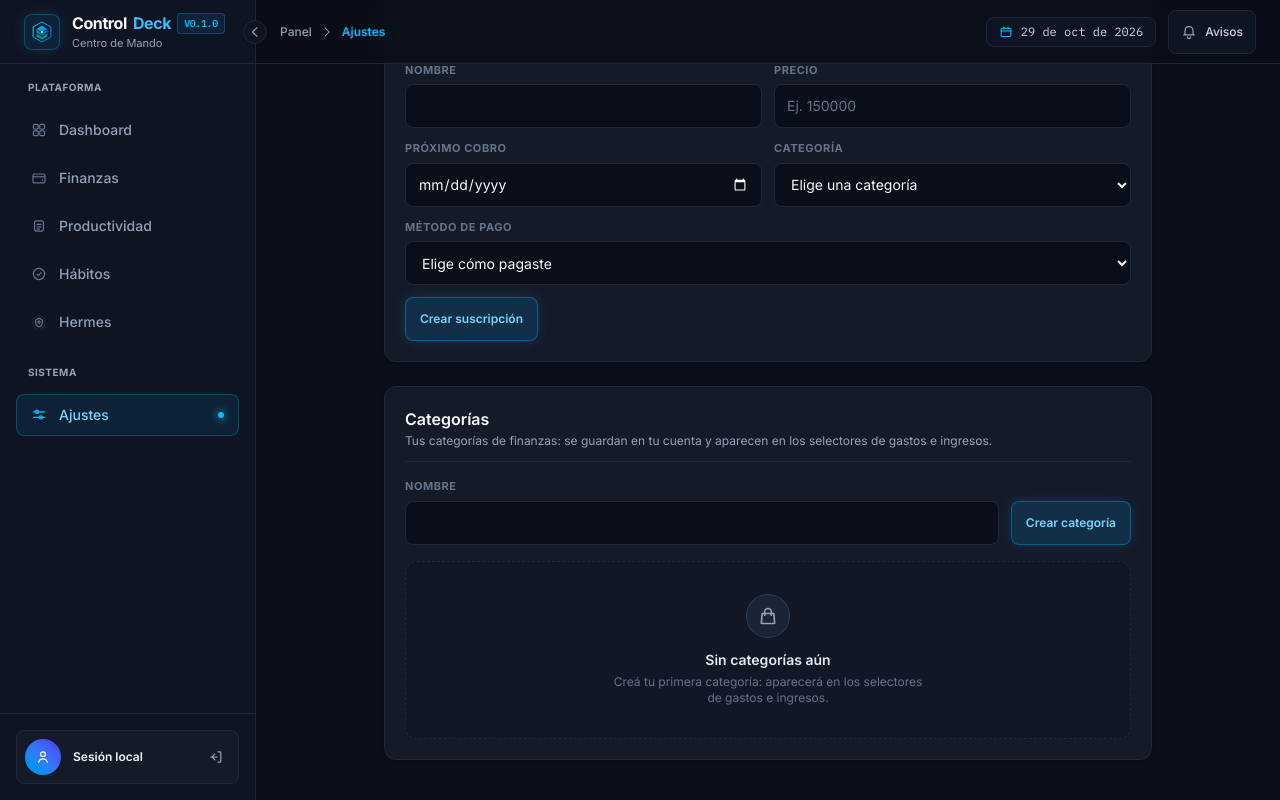
Test: ajustes page › creates name-only categories with no kind control and deletes them
The image size is (1280, 800).
(page scrolled)
Expected: the text "Sin categorías aún" is shown, [705,650,831,670]
Type "Comida" into the 2nd field labelled "Nombre" at (702,522), box [405,500,999,544]
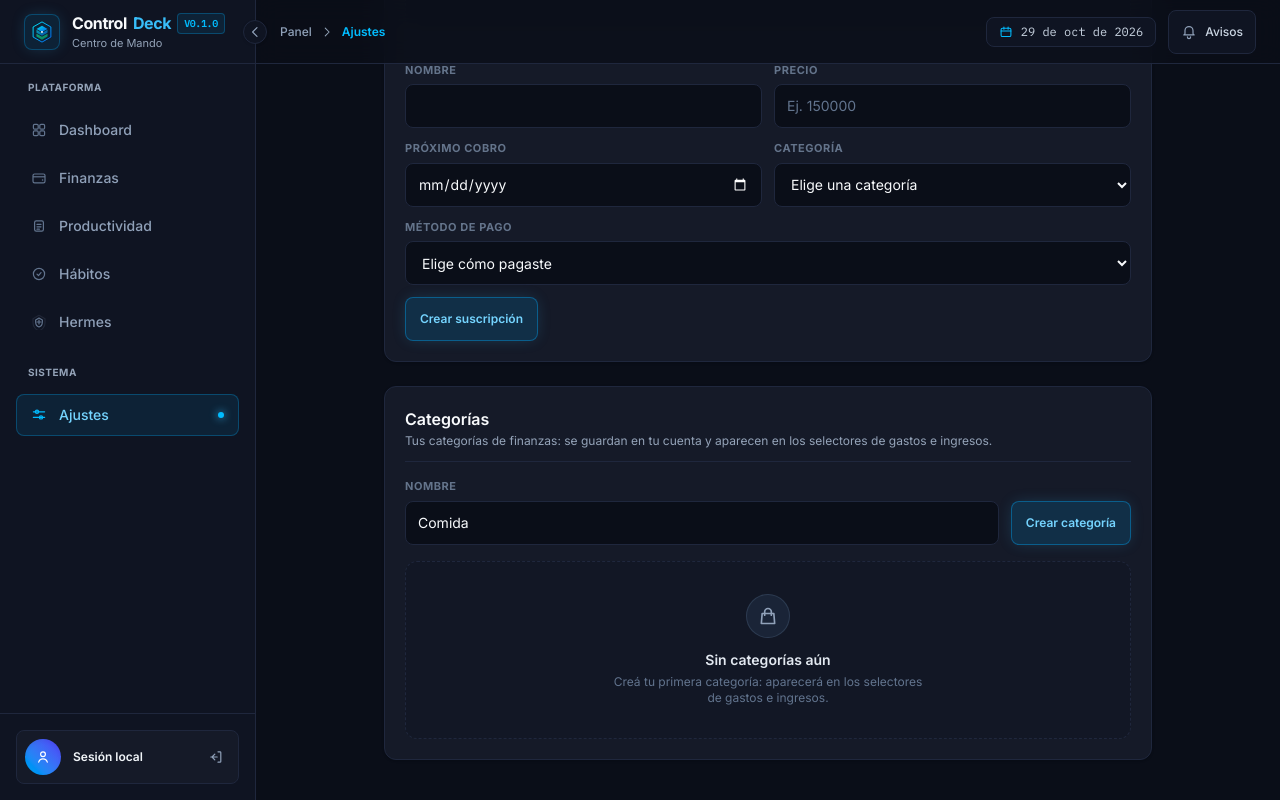
Click the button "Crear categoría" at (1071,522), box [1011,500,1131,544]
(page scrolled)
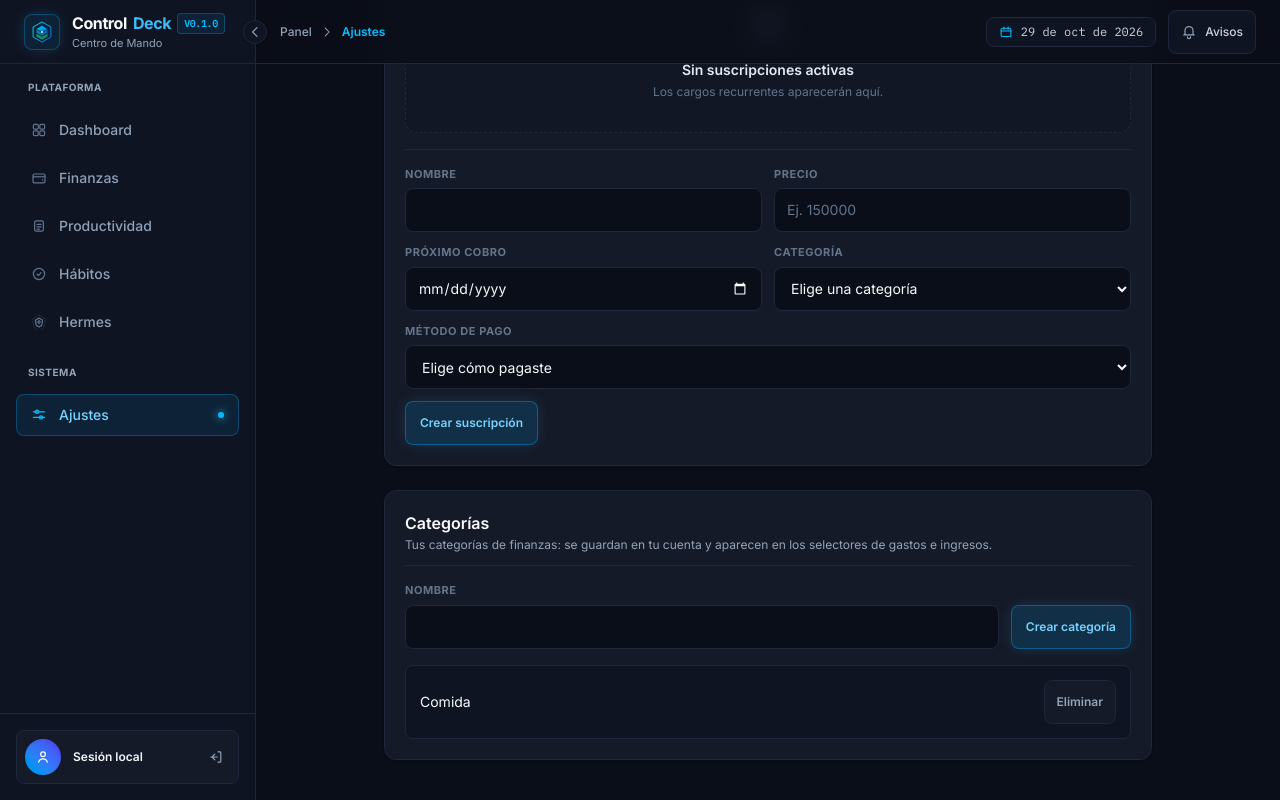
Expected: the text "Gasto" is not shown
Now the text "Comida" is shown, box [420,692,471,712]
Click the button with aria-label "Eliminar: Comida" at (1080,702), box [1044,680,1116,724]
(page scrolled)
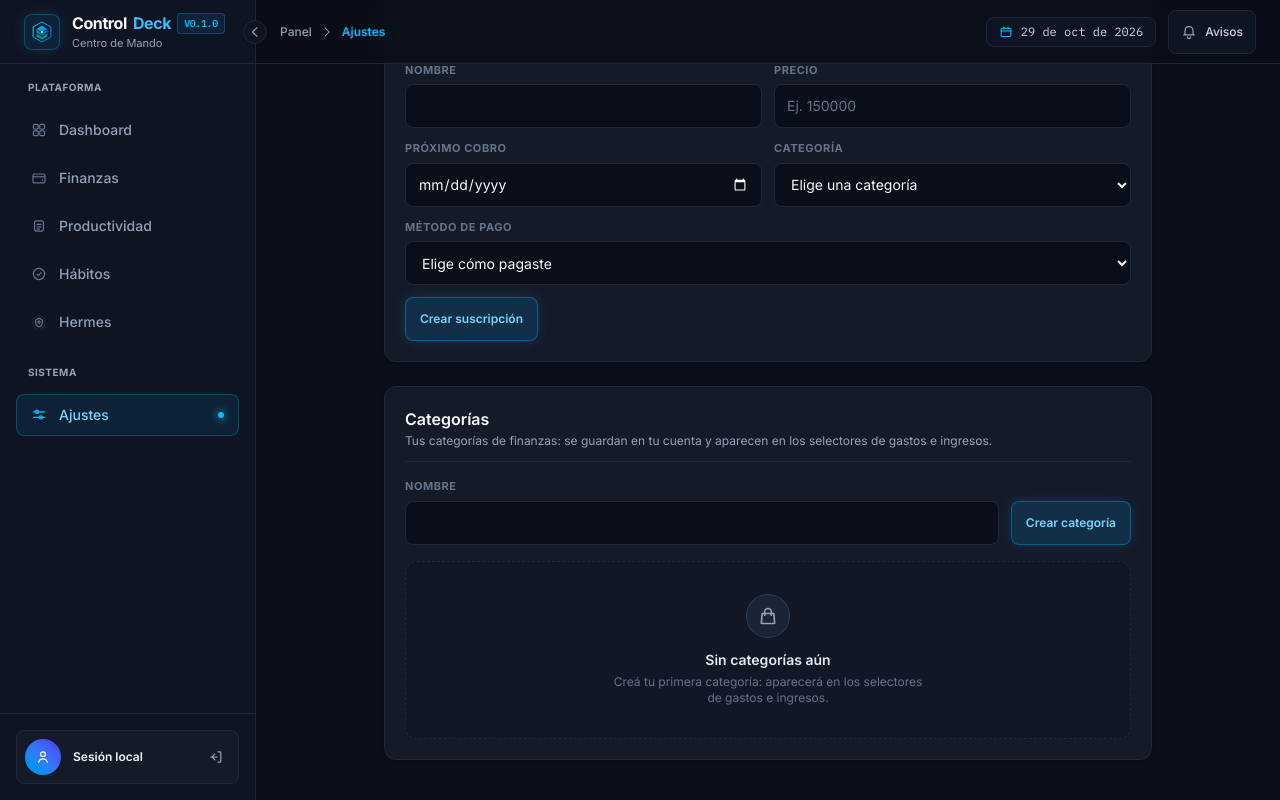
Now the text "Comida" is gone
